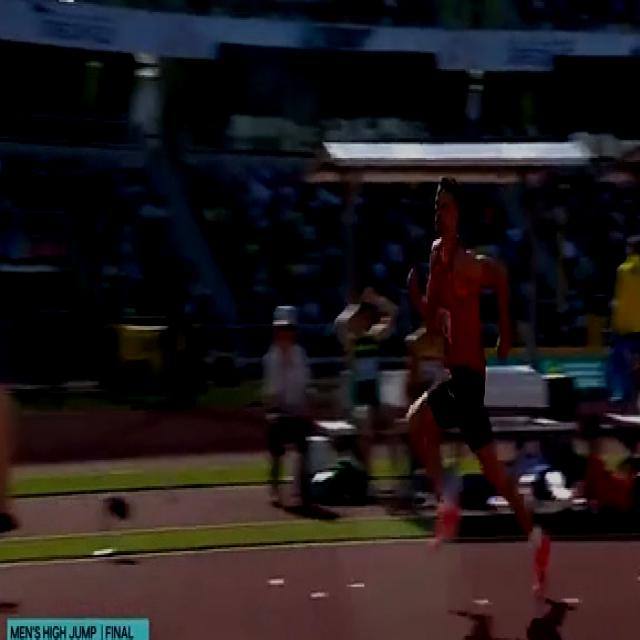run: (407, 173, 553, 597)
